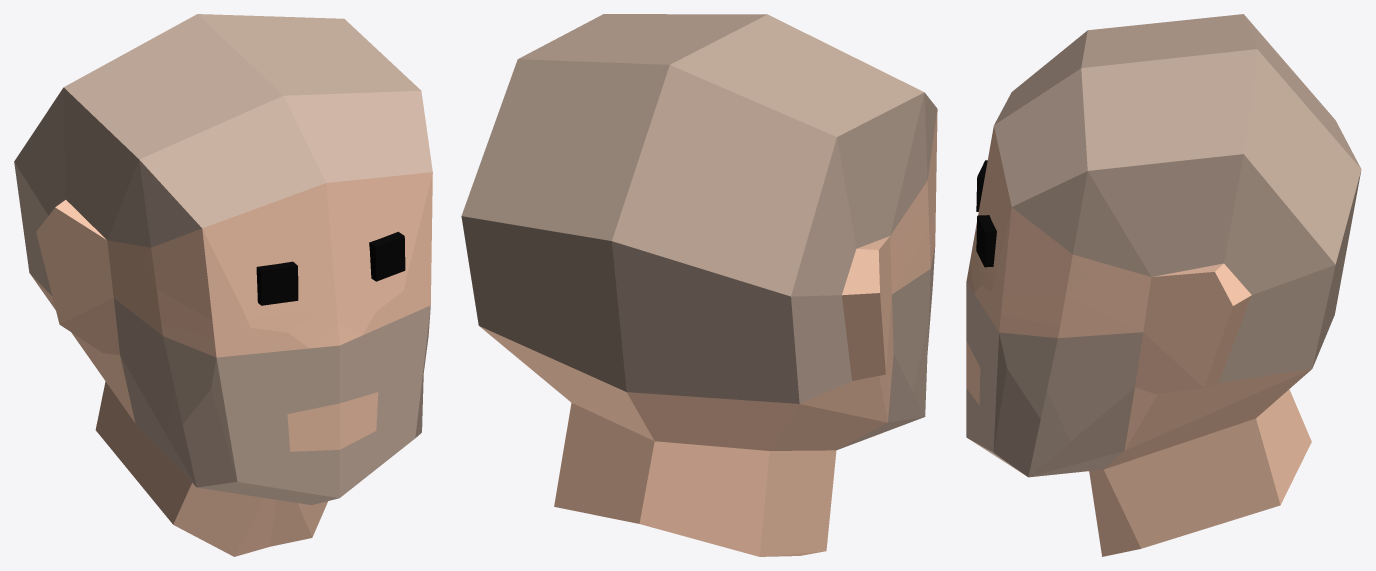
Rendered from Chr_Head_Male_09_Static.fbx.
3 renders of one model, left to right at view 1: azimuth 30°, elevation 25°; view 2: azimuth 150°, elevation 25°; view 3: azimuth 270°, elevation 25°, orthographic. The views are drawn at different scales.
Visible parts, largest first — view 1: Chr_Head_Male_09_Static; view 2: Chr_Head_Male_09_Static; view 3: Chr_Head_Male_09_Static.
Part boxes in pixels (left/top/right/bottom): Chr_Head_Male_09_Static: left=14, top=14, right=432, bottom=556; Chr_Head_Male_09_Static: left=461, top=14, right=937, bottom=556; Chr_Head_Male_09_Static: left=966, top=14, right=1361, bottom=556.
Size of the model in its own units: 0.2661 by 0.3523 by 0.2574.
